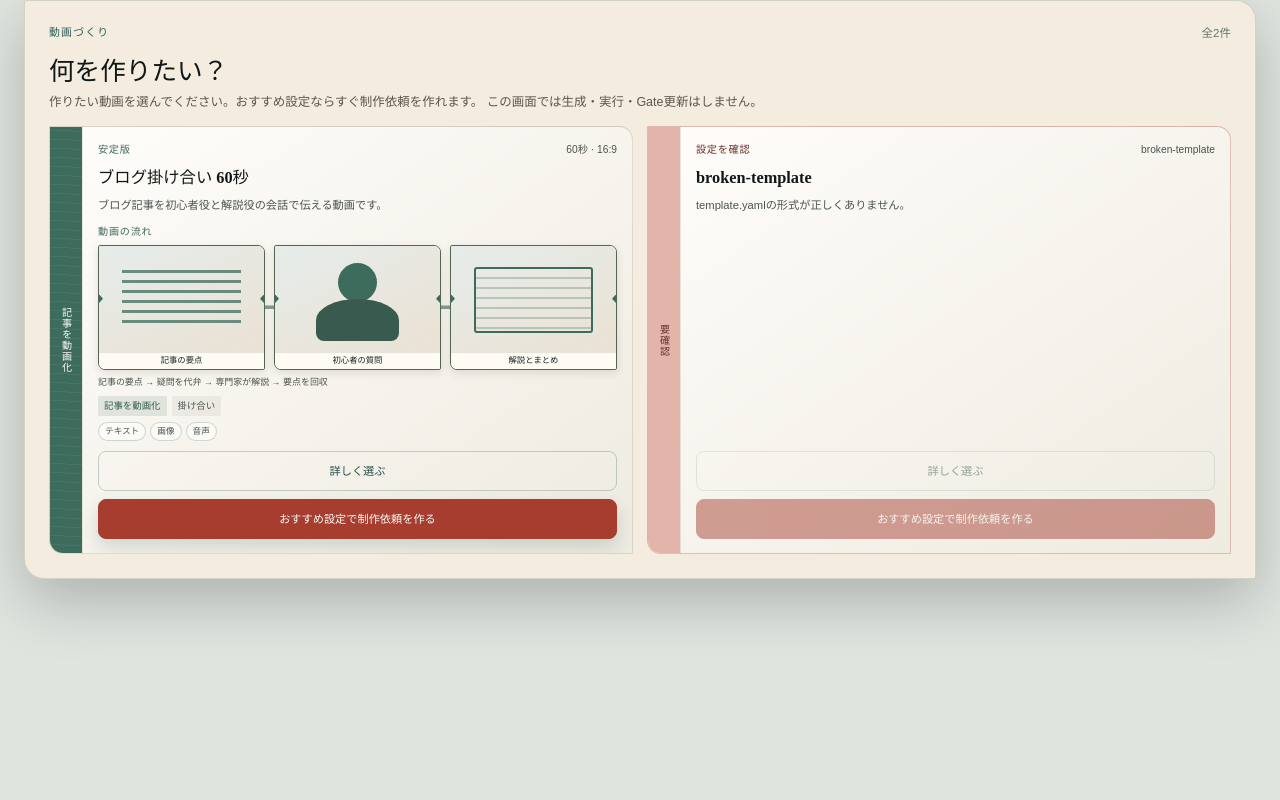
Scenario: TemplateShelf › defaultOptionId がある軸は推奨が事前選択される
The width and height of the screenshot is (1280, 800).
Click the button "詳しく選ぶ" below "テキスト" at (358, 471), box [98,451,617,491]
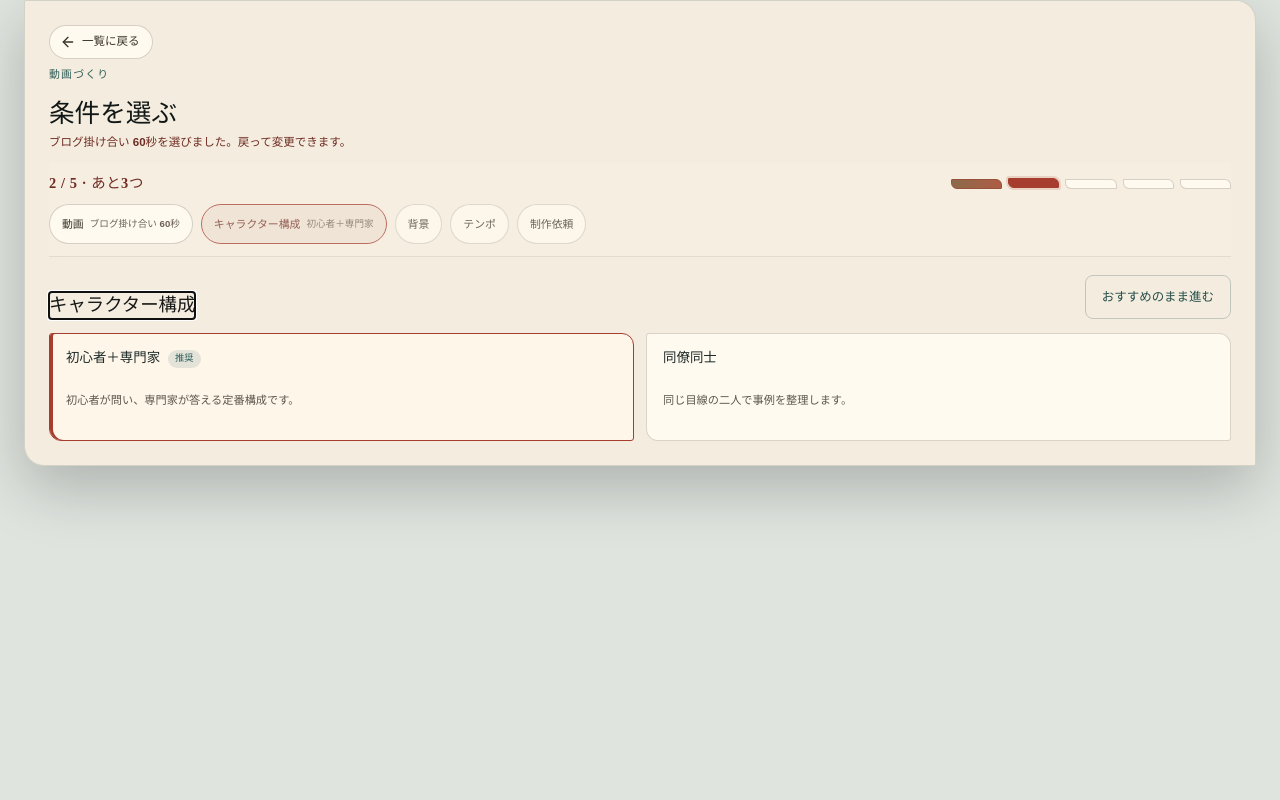
expect the heading "キャラクター構成" is shown: met, box [49,292,195,320]
expect the text "推奨" is shown: met, box [168,350,201,368]
Click the button "初心者＋専門家 推奨 初心者が問い、専門家が答える定番構成です。" at (113, 358), box [49,334,634,442]
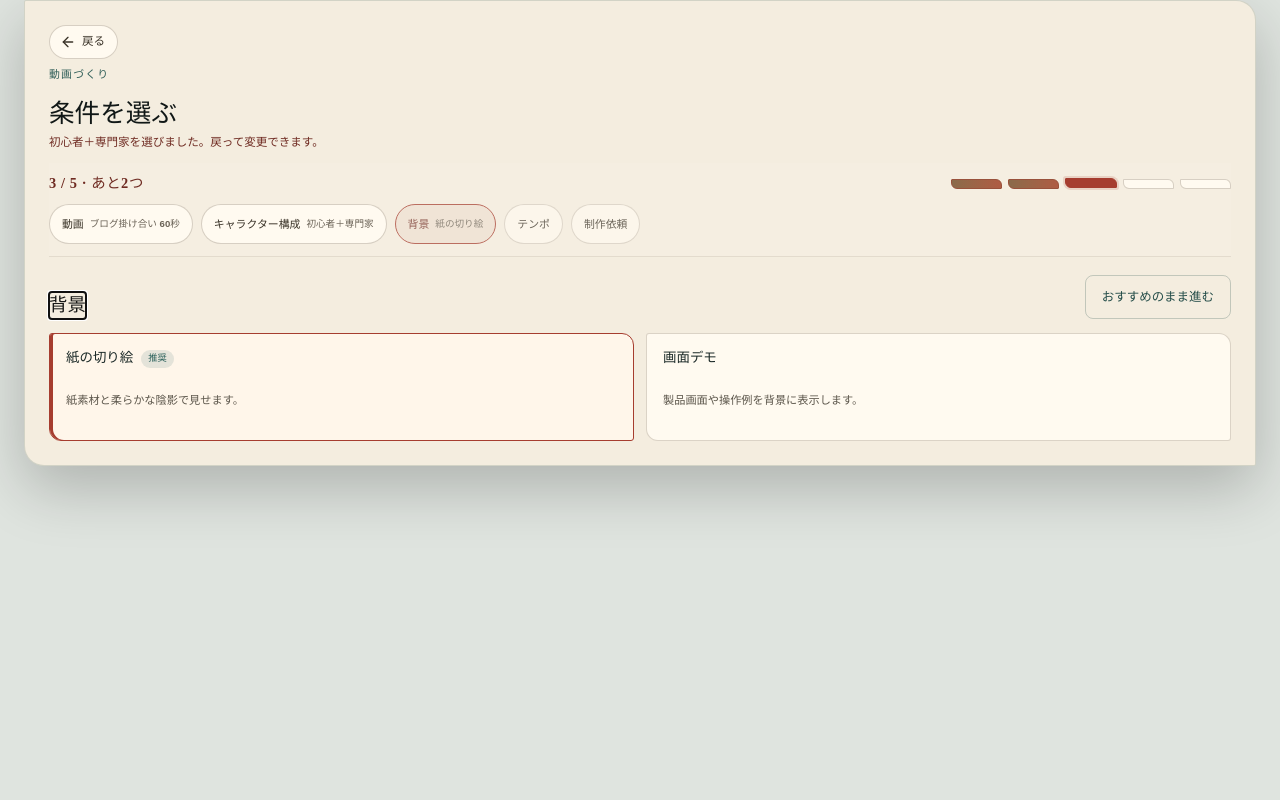
expect the text "推奨" is shown: met, box [141,350,174,368]
expect the heading "背景" is shown: met, box [49,292,86,320]
Click the button "紙の切り絵 推奨 紙素材と柔らかな陰影で見せます。" at (100, 358), box [49,334,634,442]
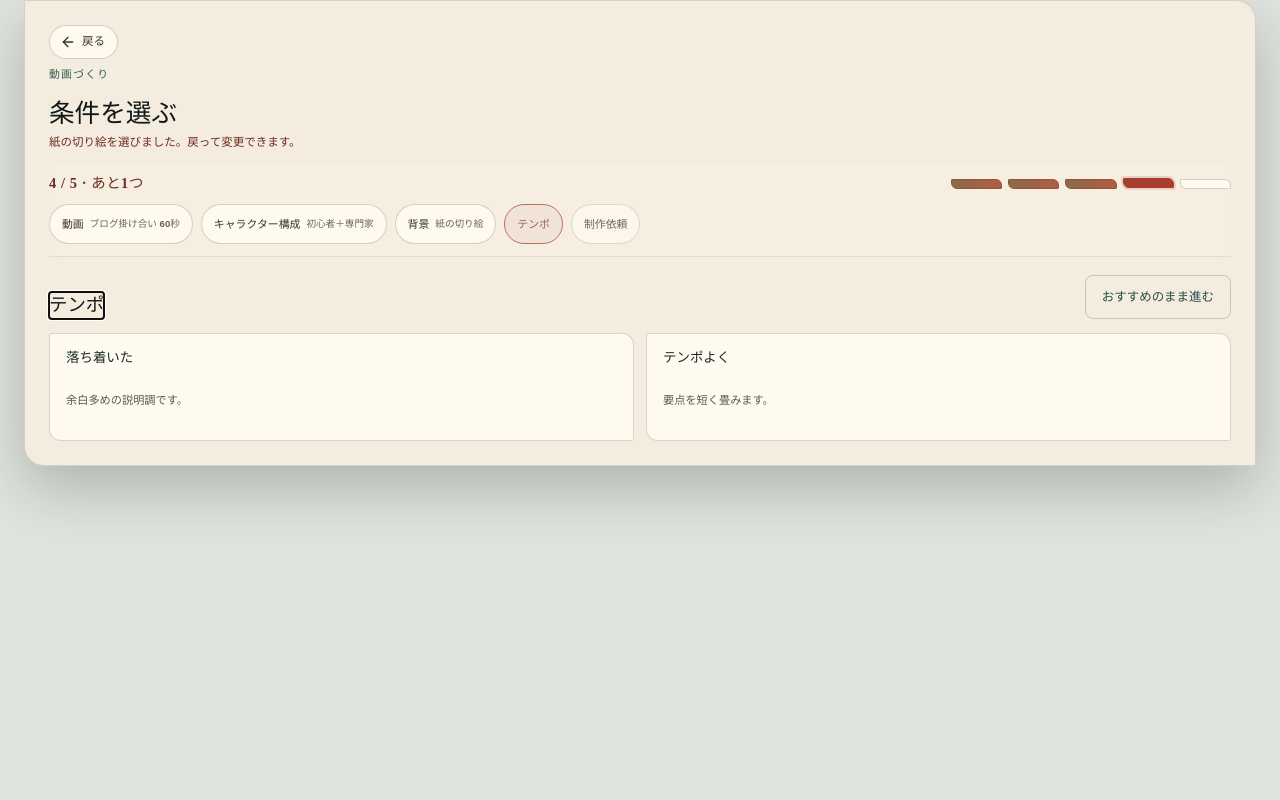
expect the heading "テンポ" is shown: met, box [49,292,104,320]
